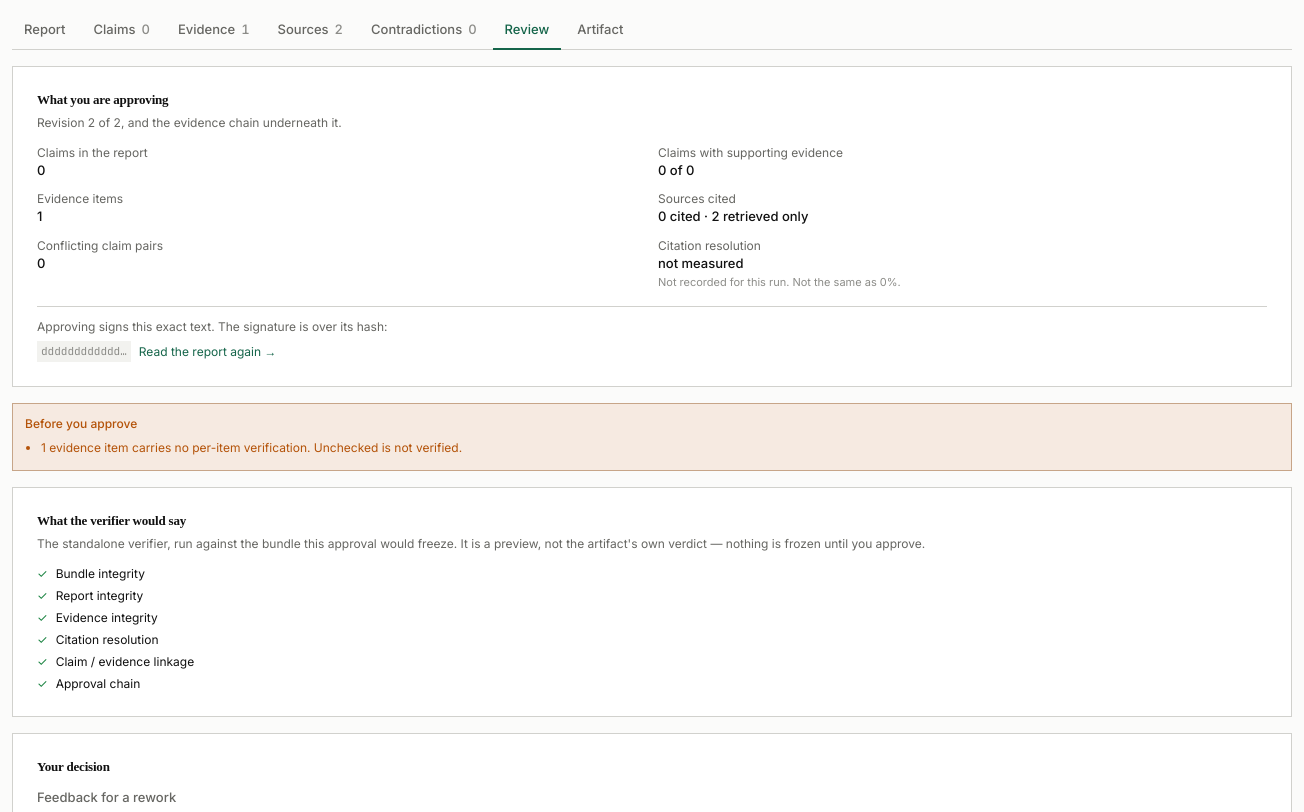
Test: RunWorkspace › keeps earlier revisions visible as versions rather than replacing them
This screenshot has width=1304, height=812.
Click the tab "Report": x=45, y=31 [12,12,78,50]
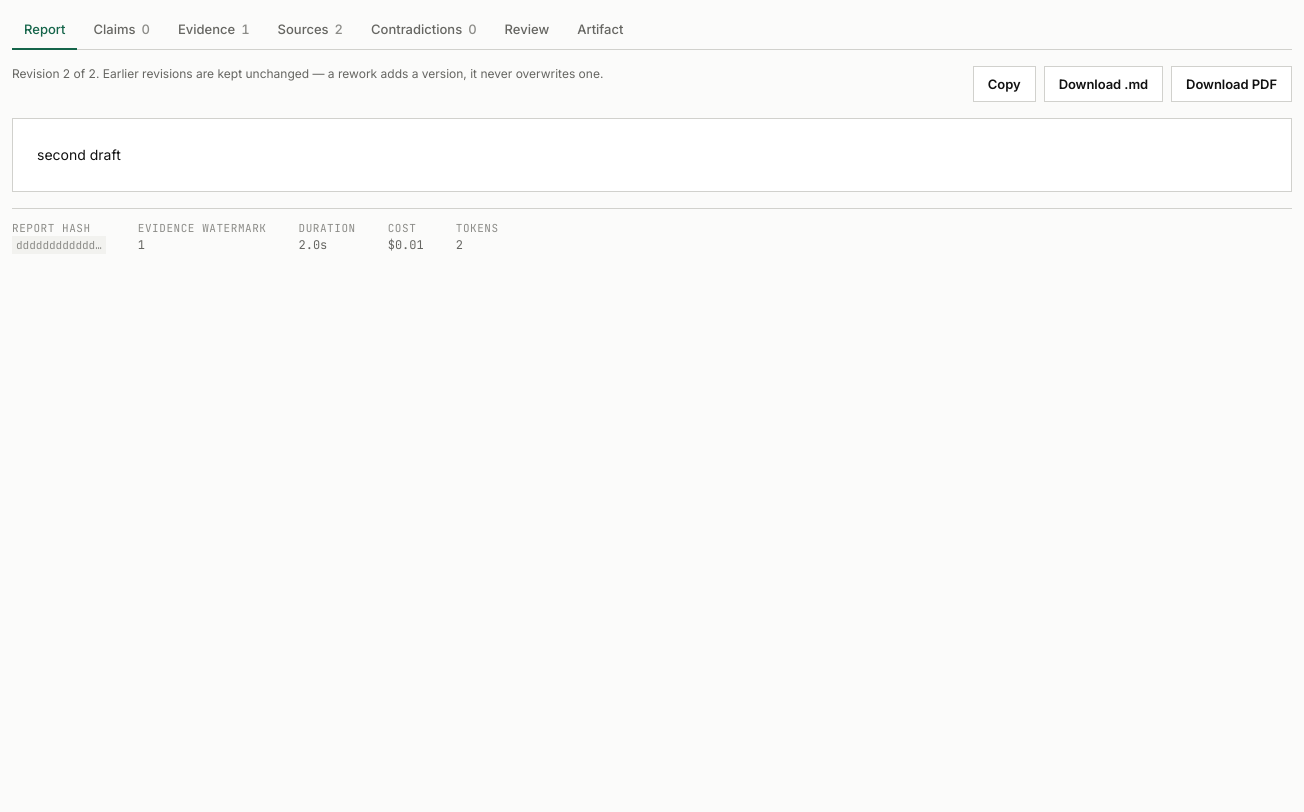
Now the text "Revision 2 of 2" is shown, box [12,66,603,82]
Now the text "never overwrites one" is shown, box [96,66,603,80]
